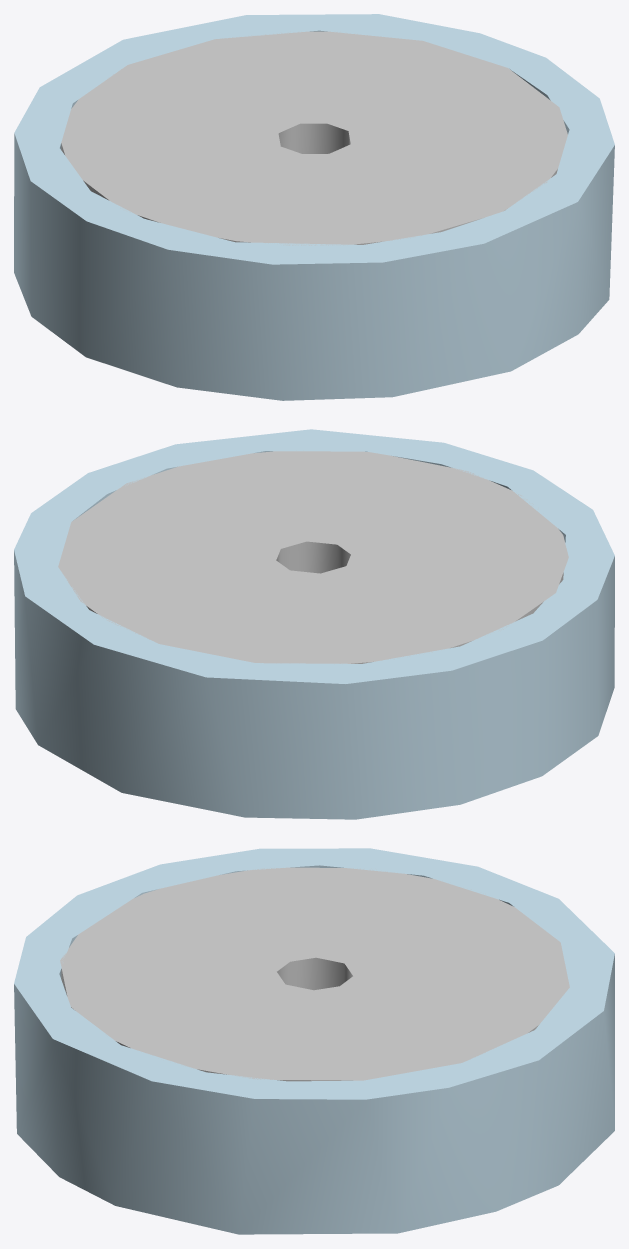
The model's file is FourInStealth.fbx.
3 renders of one model, top to bottom at view 1: azimuth 30°, elevation 25°; view 2: azimuth 150°, elevation 25°; view 3: azimuth 270°, elevation 25°, orthographic.
Parts seen in each view (by area): view 1: Part 1, Part 2; view 2: Part 1, Part 2; view 3: Part 1, Part 2.
Boxes of the visible parts, left/top/right/bottom form: Part 1: left=14, top=14, right=614, bottom=400; Part 2: left=61, top=31, right=567, bottom=245; Part 1: left=14, top=429, right=614, bottom=819; Part 2: left=58, top=451, right=568, bottom=663; Part 1: left=14, top=848, right=614, bottom=1234; Part 2: left=60, top=867, right=569, bottom=1081.
Bounding box in the file's own units: 10.05 × 2.54 × 10.15.
